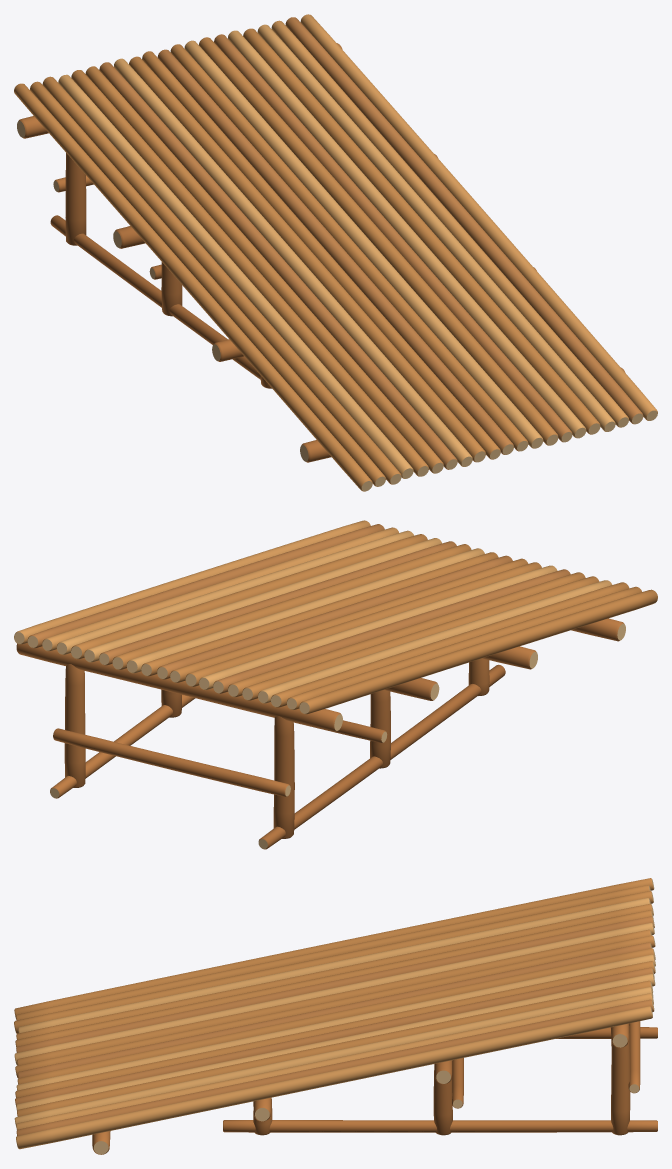
The model's file is SM_LogRamp_NoWalls.fbx.
The picture shows the model from 3 angles, top to bottom: view 1: azimuth 30°, elevation 25°; view 2: azimuth 150°, elevation 25°; view 3: azimuth 270°, elevation 25°; orthographic projection. The views are drawn at different scales.
Visible parts, largest first — view 1: SM_LogRamp_NoWalls; view 2: SM_LogRamp_NoWalls; view 3: SM_LogRamp_NoWalls.
Boxes of the visible parts, x1,y1,x2,y2 form: SM_LogRamp_NoWalls: (14, 14, 657, 491); SM_LogRamp_NoWalls: (14, 520, 657, 849); SM_LogRamp_NoWalls: (14, 878, 657, 1154).
Bounding box in the file's own units: 2.14 × 1 × 4.09.
